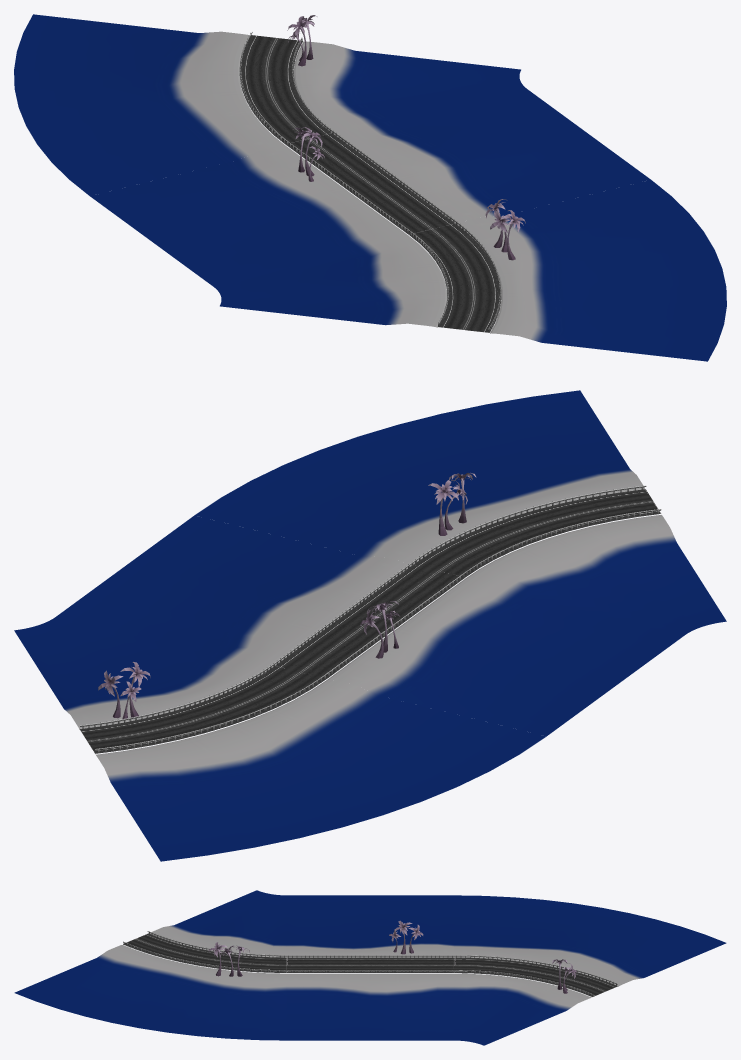
File: miami_road_009.FBX
3 views of the same model, one above another, from view 1: azimuth 30°, elevation 25°; view 2: azimuth 150°, elevation 25°; view 3: azimuth 270°, elevation 25° (orthographic). The views are drawn at different scales.
Parts seen in each view (by area): view 1: Plane050, Plane055, Plane056; view 2: Plane055, Plane050, Plane056; view 3: Plane056, Plane055, Plane050.
Boxes of the visible parts, x1=… form: Plane050: x1=14, y1=14, x2=527, y2=195; Plane055: x1=90, y1=89, x2=650, y2=286; Plane056: x1=213, y1=180, x2=726, y2=361; Plane055: x1=56, y1=515, x2=684, y2=736; Plane050: x1=14, y1=617, x2=546, y2=861; Plane056: x1=194, y1=390, x2=726, y2=634; Plane056: x1=14, y1=890, x2=286, y2=1040; Plane055: x1=286, y1=895, x2=454, y2=1040; Plane050: x1=454, y1=895, x2=726, y2=1045.
Size of the model in its own units: 3511 by 348 by 6797.
